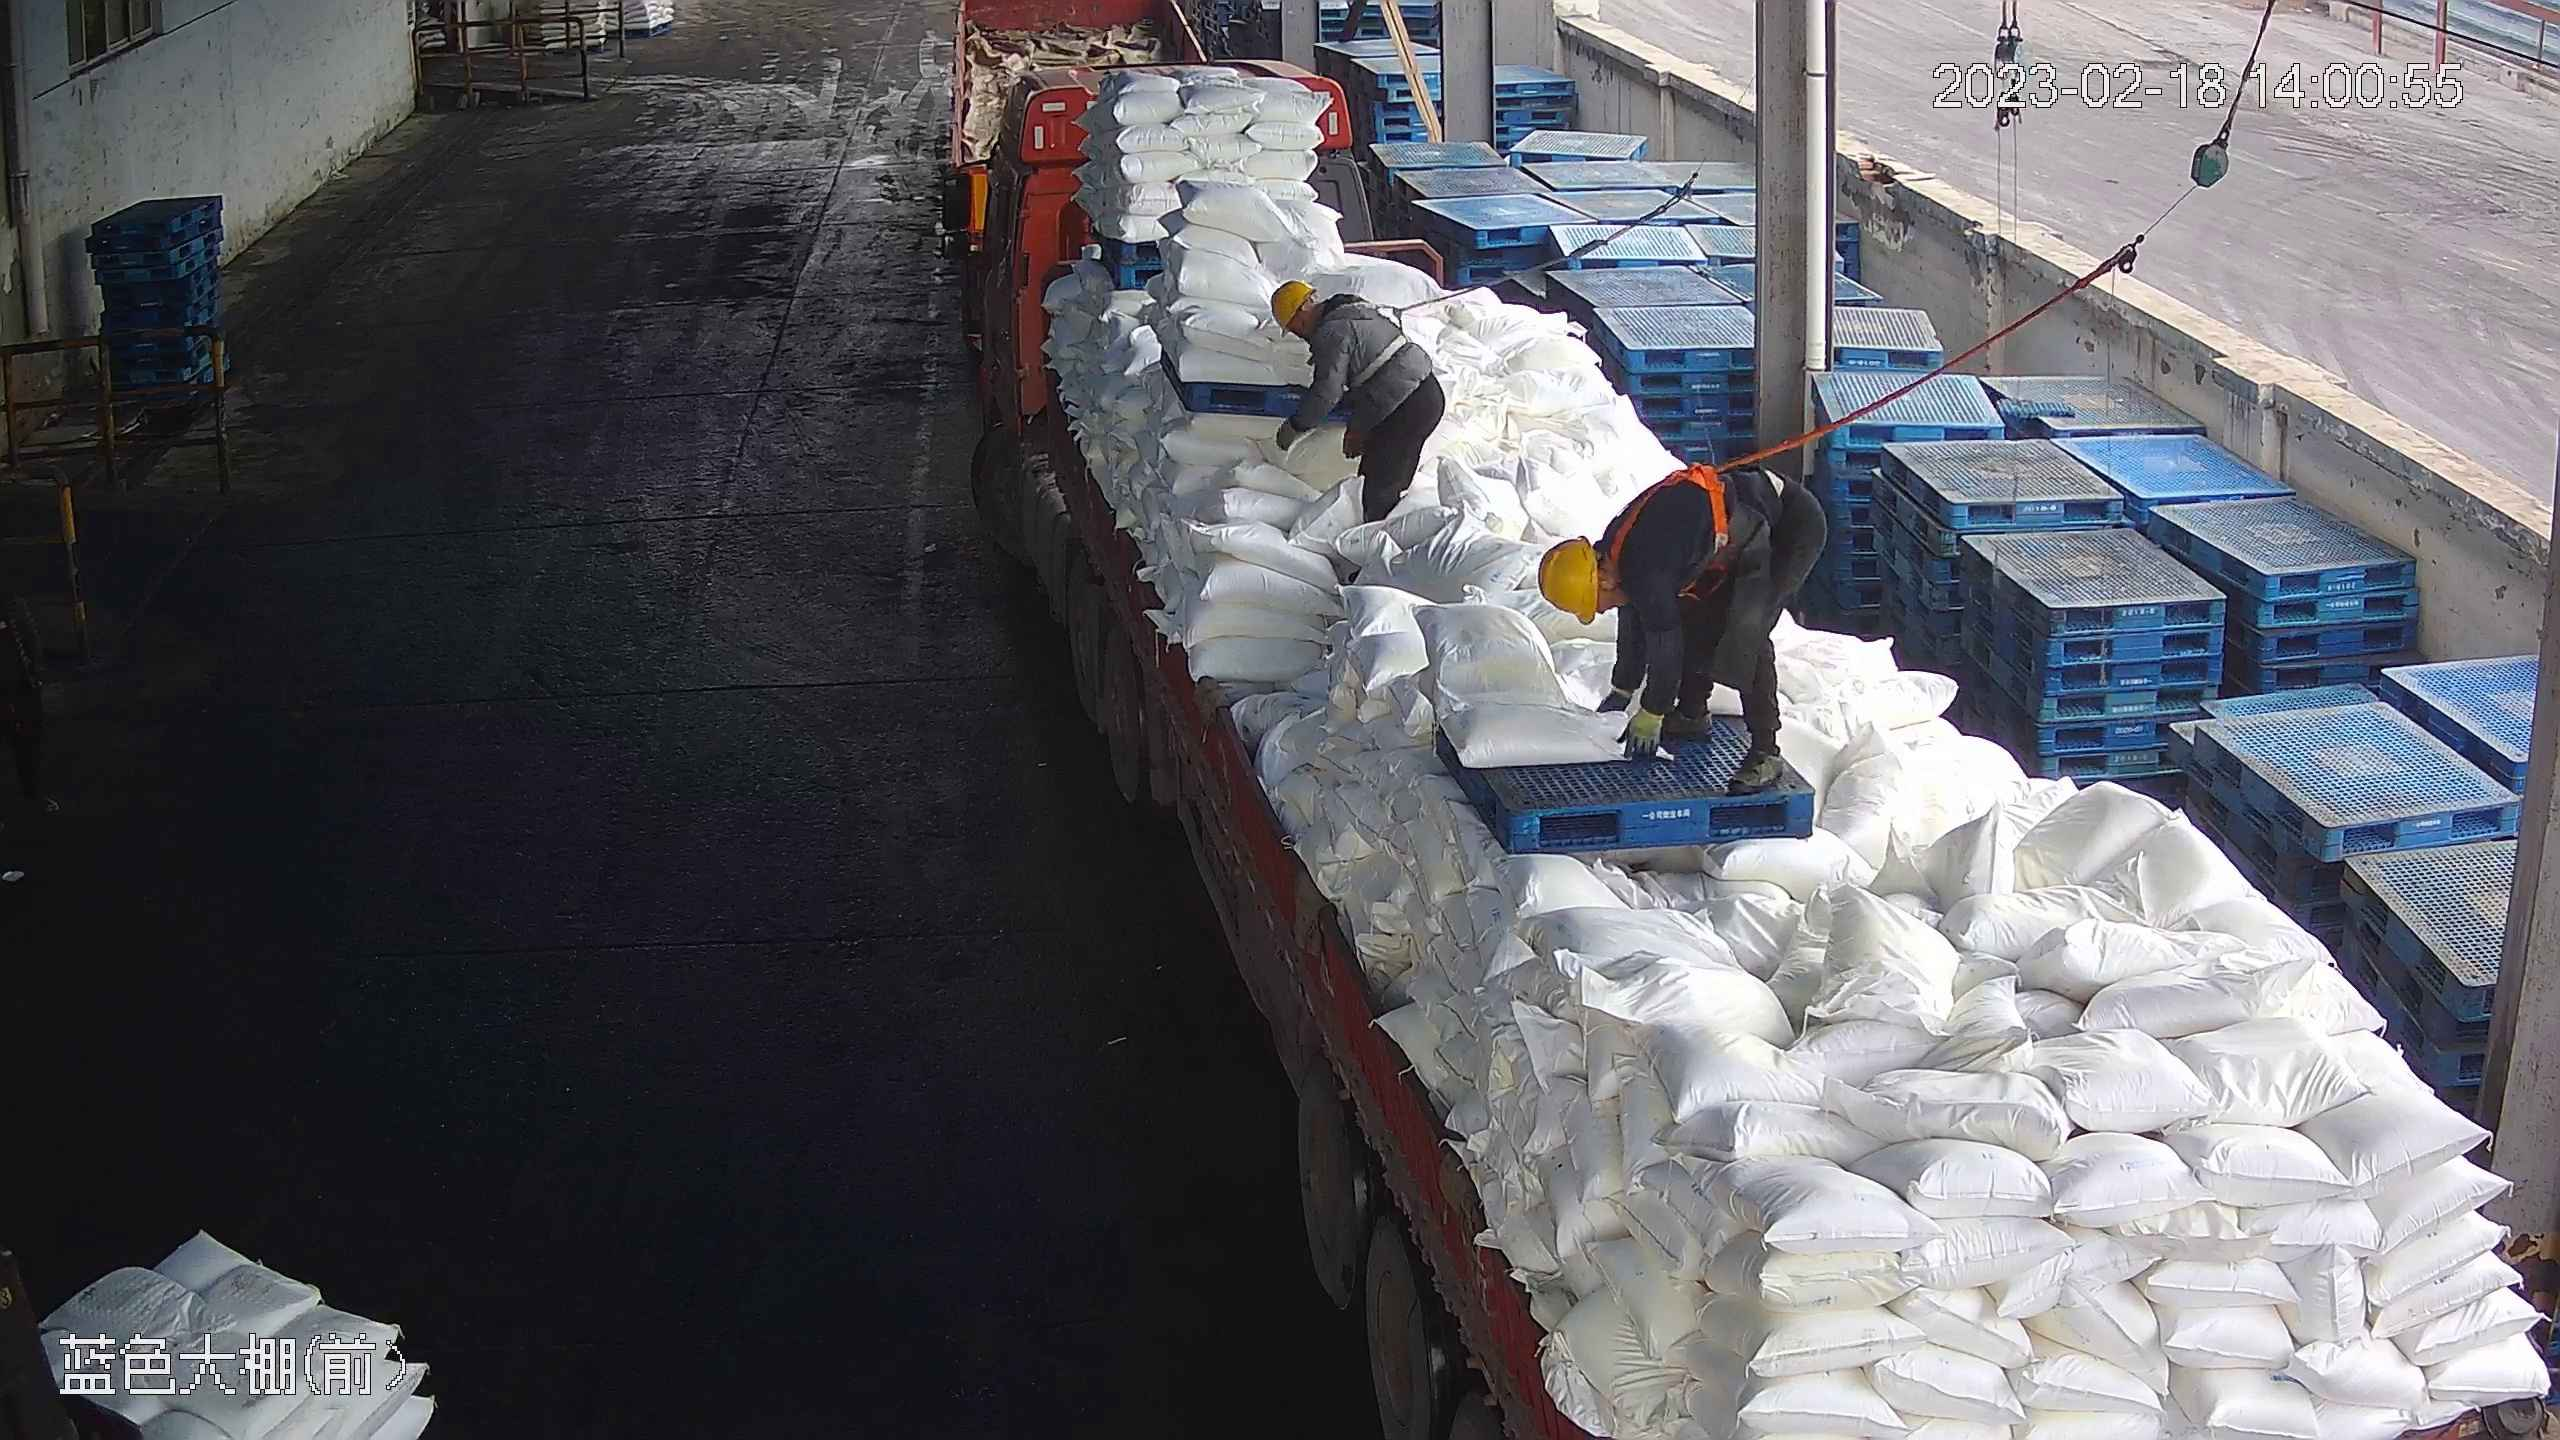belt: (1601, 449, 1750, 576), (1337, 288, 1427, 395)
head: (1536, 494, 1691, 628), (1271, 279, 1383, 389)
helmet: (1535, 534, 1598, 627), (1271, 279, 1317, 338)
people: (1537, 464, 1829, 802), (1271, 280, 1447, 525)
truck: (935, 67, 2560, 1440)
